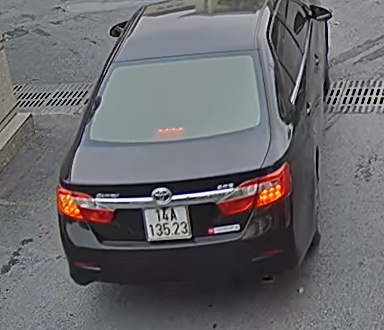vehicle plate: (139, 203, 191, 240)
